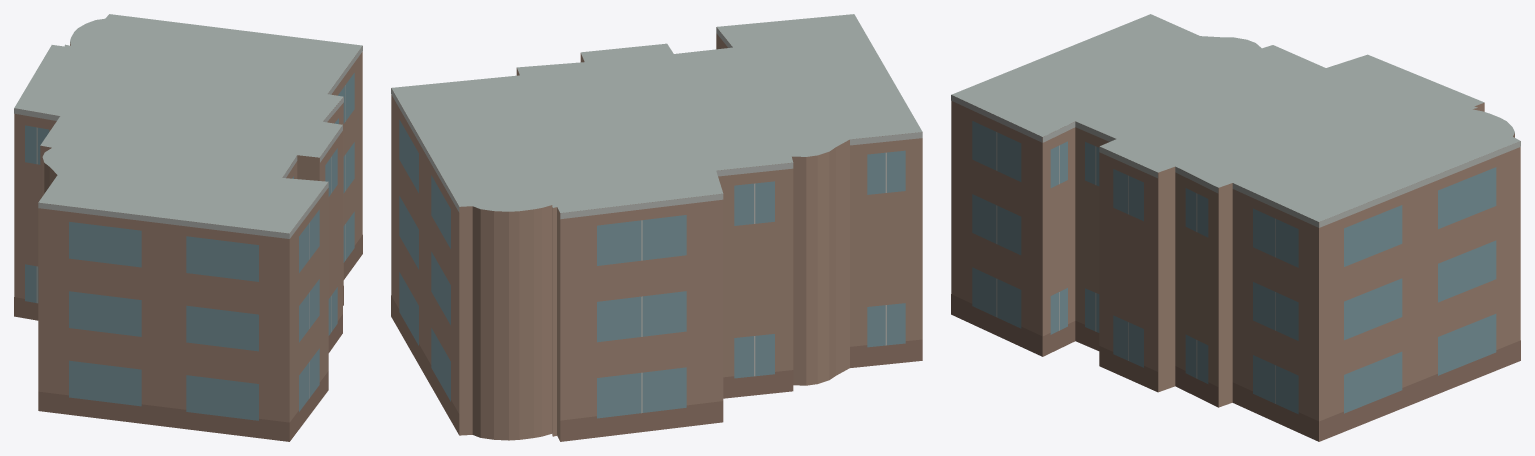
File: survey-upis-32990300.glb
3 views of the same model, side by side, from view 1: azimuth 30°, elevation 25°; view 2: azimuth 150°, elevation 25°; view 3: azimuth 270°, elevation 25° (orthographic). The views are drawn at different scales.
Visible parts, largest first — view 1: survey-upis-32990300.tmp; view 2: survey-upis-32990300.tmp; view 3: survey-upis-32990300.tmp.
Boxes of the visible parts, x1,y1,x2,y2 form: survey-upis-32990300.tmp: (14, 14, 362, 441); survey-upis-32990300.tmp: (391, 14, 922, 441); survey-upis-32990300.tmp: (951, 14, 1520, 441).
Size of the model in its own units: 18.59 by 9.15 by 21.5.
